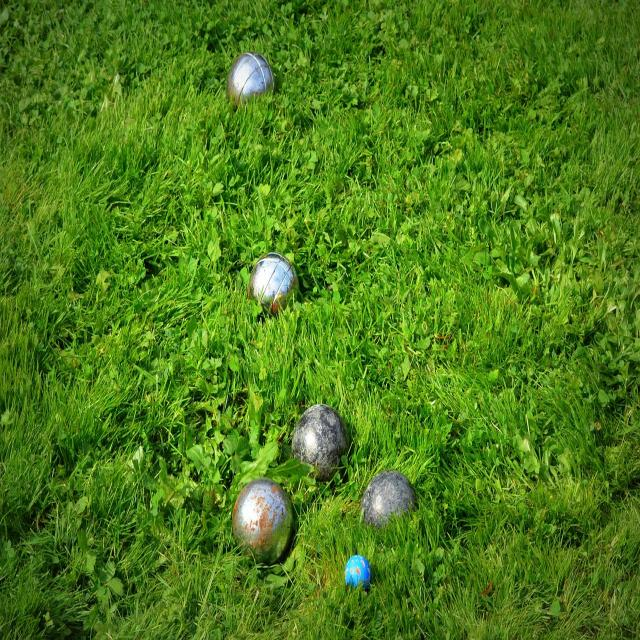hatball: (341, 551, 377, 590)
petanque: (229, 475, 302, 574), (229, 245, 307, 328), (282, 399, 356, 486), (216, 42, 280, 125), (356, 468, 419, 536)
